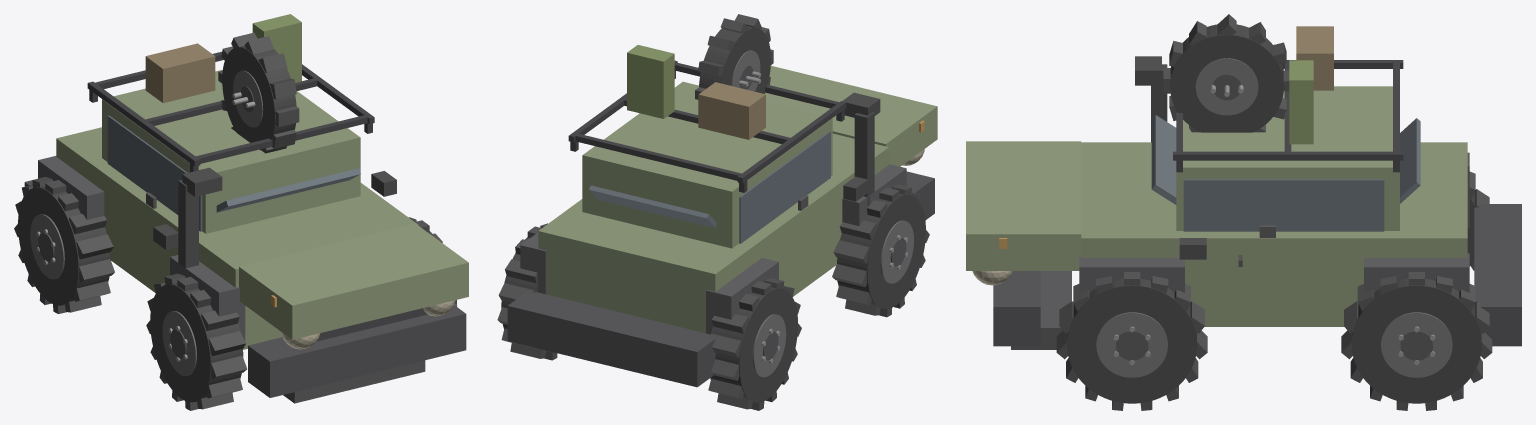
File: niva_lowpoly_game_ready.glb
3 views of the same model, side by side, from view 1: azimuth 30°, elevation 25°; view 2: azimuth 150°, elevation 25°; view 3: azimuth 270°, elevation 25° (orthographic). The views are drawn at different scales.
Visible parts, largest first — view 1: Body, Wheel_FL, Wheel_RL, Spare; view 2: Body, Wheel_FL, Wheel_RL, Spare, Wheel_RR; view 3: Body, Wheel_FR, Wheel_RR, Spare, Wheel_RL.
Boxes of the visible parts, bbox=[...] form: Body: bbox=[24, 14, 468, 403]; Wheel_FL: bbox=[146, 273, 246, 410]; Wheel_RL: bbox=[14, 177, 114, 313]; Spare: bbox=[218, 32, 299, 153]; Body: bbox=[507, 45, 937, 387]; Wheel_FL: bbox=[832, 184, 929, 317]; Wheel_RL: bbox=[708, 278, 801, 410]; Spare: bbox=[695, 14, 773, 99]; Wheel_RR: bbox=[497, 223, 557, 360]; Body: bbox=[966, 26, 1521, 349]; Wheel_FR: bbox=[1056, 272, 1207, 410]; Wheel_RR: bbox=[1341, 272, 1492, 410]; Spare: bbox=[1163, 14, 1289, 132]; Wheel_RL: bbox=[1467, 171, 1489, 270].
Bounding box in the file's own units: 2.32 × 2.66 × 4.1.
